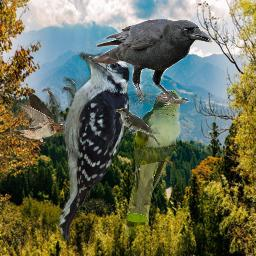Crow: (90, 19, 212, 104)
Cuckoo: (124, 90, 190, 238), (115, 108, 164, 150)
Swallow: (9, 92, 66, 144)
Woodpecker: (40, 50, 142, 241)
